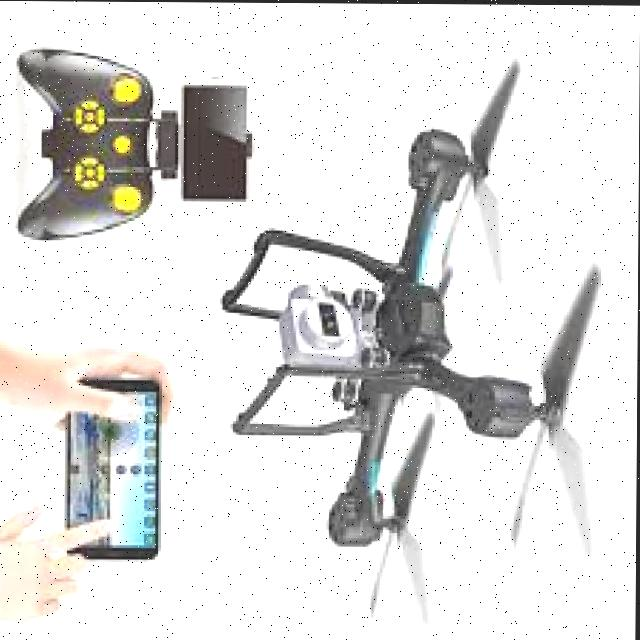drone: (227, 39, 601, 586)
